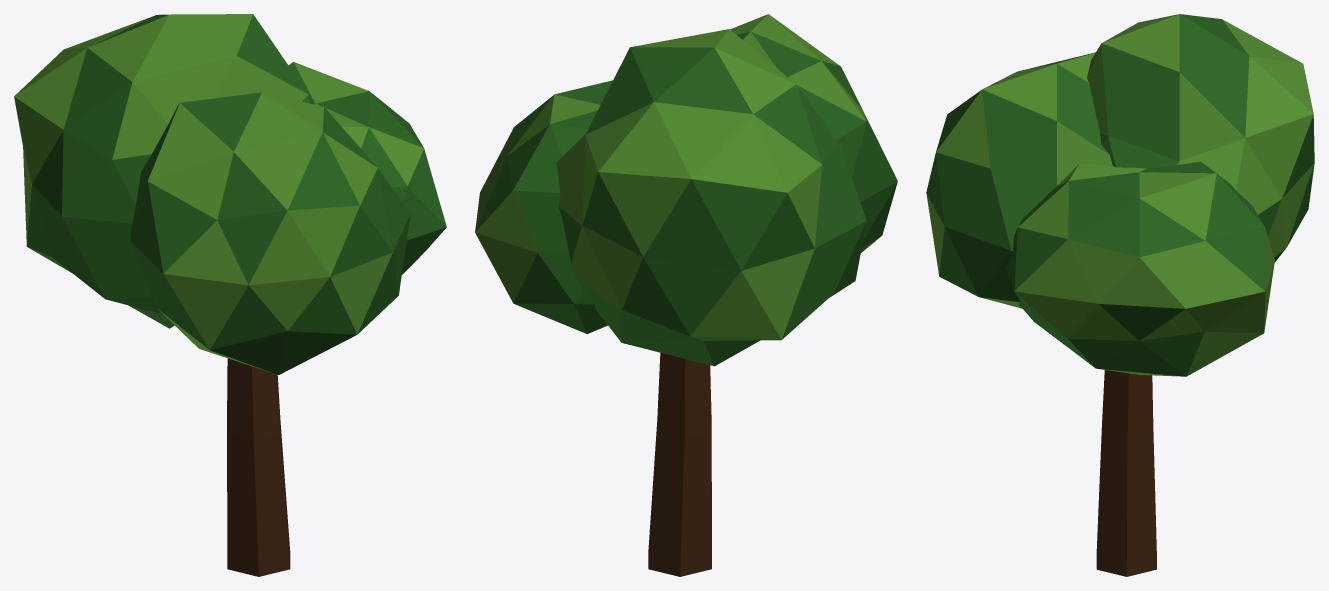
File: tree.fbx
3 renders of one model, left to right at view 1: azimuth 30°, elevation 25°; view 2: azimuth 150°, elevation 25°; view 3: azimuth 270°, elevation 25°, orthographic. The views are drawn at different scales.
Parts seen in each view (by area): view 1: Tree; view 2: Tree; view 3: Tree.
Part boxes in pixels (x1,y1,x2,y2): Tree: (14,14,446,576); Tree: (475,14,897,576); Tree: (926,14,1314,576).
Size of the model in its own units: 3.18 by 4.6 by 3.12.
